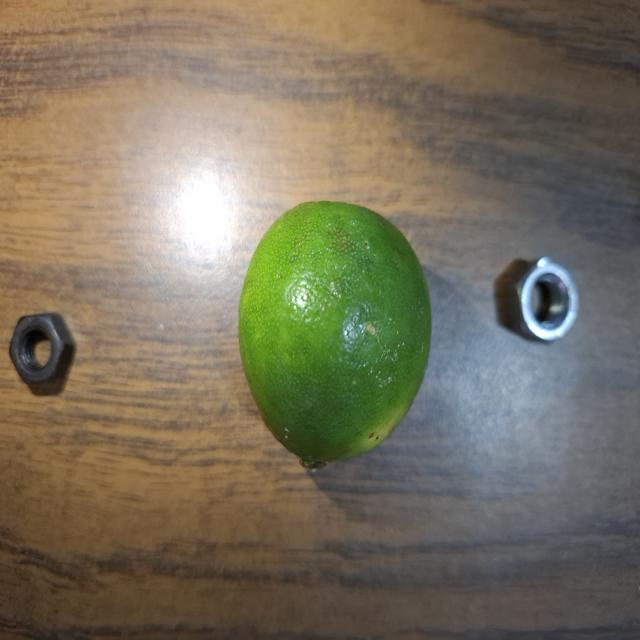limon: (239, 199, 433, 483)
milimetrico: (4, 310, 80, 393)
tuerca: (501, 245, 591, 361)
